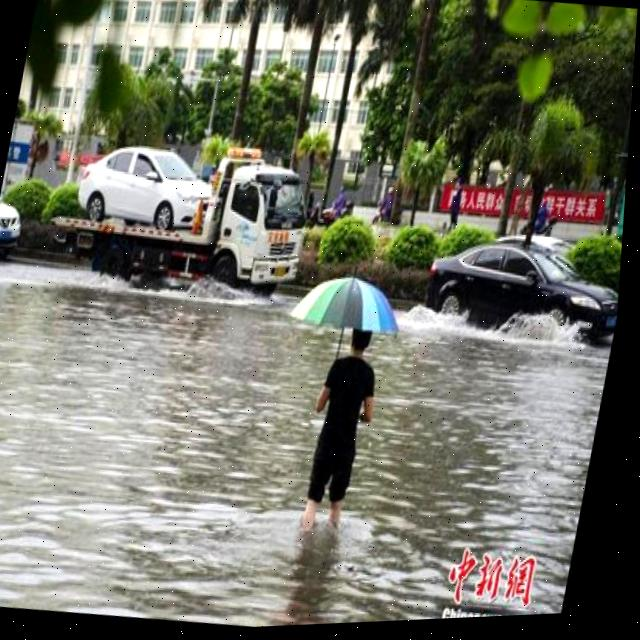civilian: (283, 303, 406, 541)
